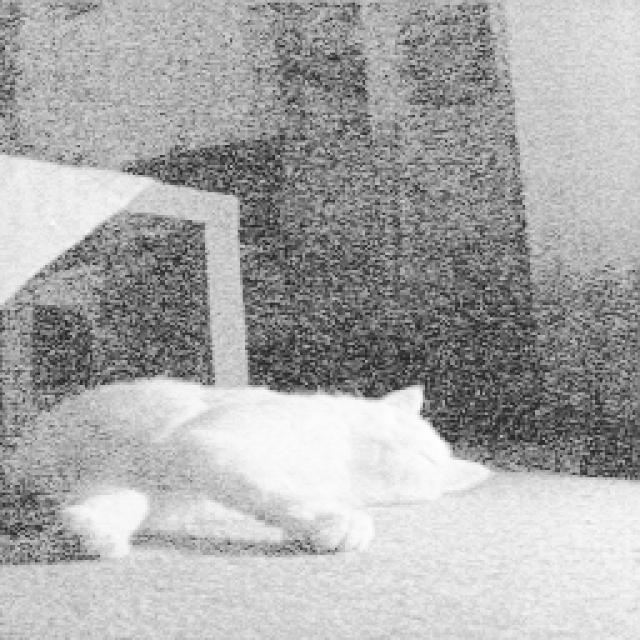cat: (0, 310, 515, 592)
